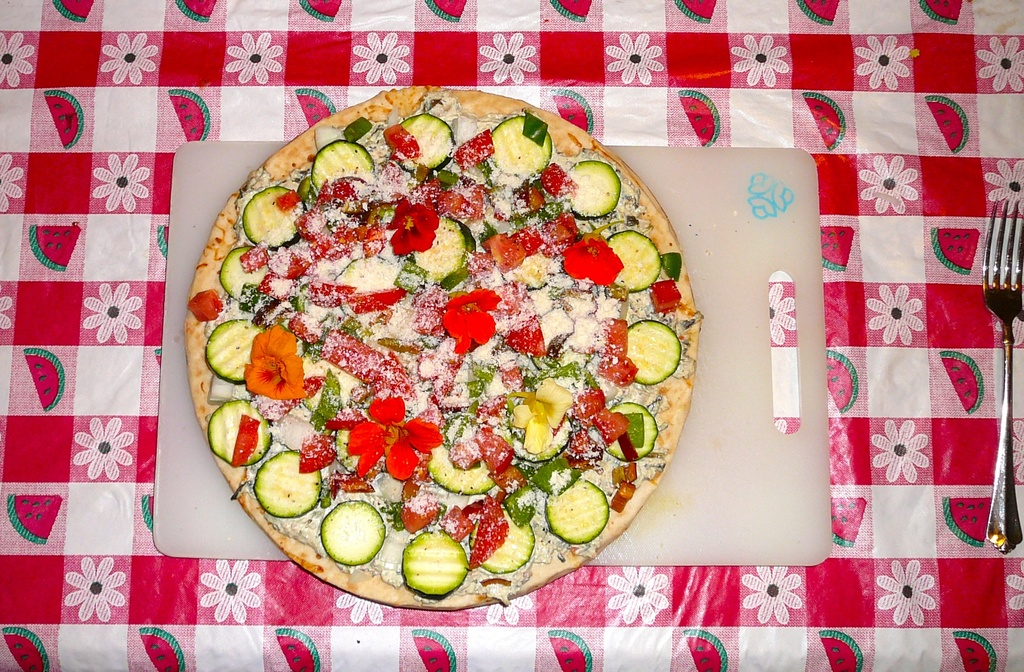Pizza: (190, 98, 700, 609)
